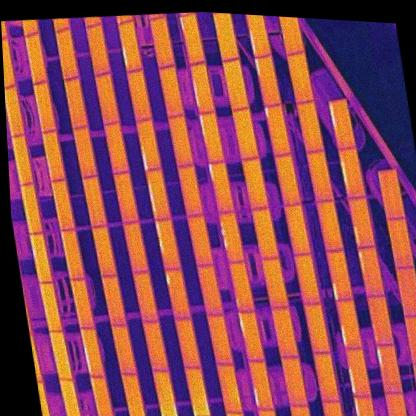Diode: (347, 195, 376, 250), (164, 264, 191, 323), (344, 346, 372, 400), (208, 159, 235, 214), (326, 248, 354, 301), (136, 116, 162, 173), (238, 309, 265, 363), (376, 342, 403, 396), (80, 324, 106, 379), (339, 146, 365, 201), (335, 299, 362, 351), (145, 167, 171, 221), (328, 99, 355, 151), (188, 61, 214, 115), (255, 54, 281, 108), (248, 358, 274, 412), (359, 245, 385, 298), (155, 218, 181, 271), (198, 109, 223, 164), (117, 20, 143, 72), (179, 13, 205, 64), (246, 15, 271, 58), (2, 37, 14, 87)
Hotspot: (366, 293, 394, 348), (218, 210, 245, 264), (265, 103, 290, 157)
Normal: (251, 206, 279, 261), (280, 354, 308, 409), (197, 261, 224, 317), (232, 106, 259, 162), (297, 98, 324, 154), (206, 311, 233, 366), (284, 202, 311, 257), (176, 162, 203, 217), (242, 155, 269, 210), (261, 256, 288, 310), (186, 214, 213, 268), (272, 305, 298, 361), (101, 273, 127, 329), (229, 258, 255, 314), (47, 328, 73, 384), (387, 216, 414, 269), (378, 167, 405, 220), (222, 58, 249, 111), (313, 352, 340, 405), (69, 275, 95, 330), (306, 148, 332, 203), (94, 70, 120, 125), (158, 63, 184, 118), (85, 22, 111, 77), (112, 323, 138, 377), (175, 316, 201, 370), (303, 301, 329, 355), (294, 252, 320, 306), (92, 224, 118, 278), (274, 152, 300, 206), (72, 125, 98, 179), (168, 112, 194, 166), (216, 361, 242, 415), (317, 199, 343, 252), (126, 69, 151, 123), (288, 50, 313, 104), (143, 319, 168, 372), (123, 222, 148, 275), (150, 15, 175, 68), (38, 281, 63, 333), (133, 271, 158, 323), (28, 232, 53, 284), (82, 175, 106, 229), (51, 178, 74, 234), (212, 13, 238, 62), (113, 170, 137, 223), (103, 121, 127, 174), (55, 27, 79, 80), (184, 363, 208, 416), (60, 229, 84, 281), (19, 182, 43, 234), (32, 80, 56, 132), (152, 367, 177, 416), (65, 76, 88, 129), (10, 133, 33, 184), (42, 130, 65, 181), (24, 33, 47, 84), (121, 371, 146, 416), (89, 373, 115, 416), (396, 264, 416, 318), (4, 85, 24, 137), (58, 377, 84, 416), (278, 16, 303, 56), (406, 314, 416, 367), (412, 363, 416, 414)
